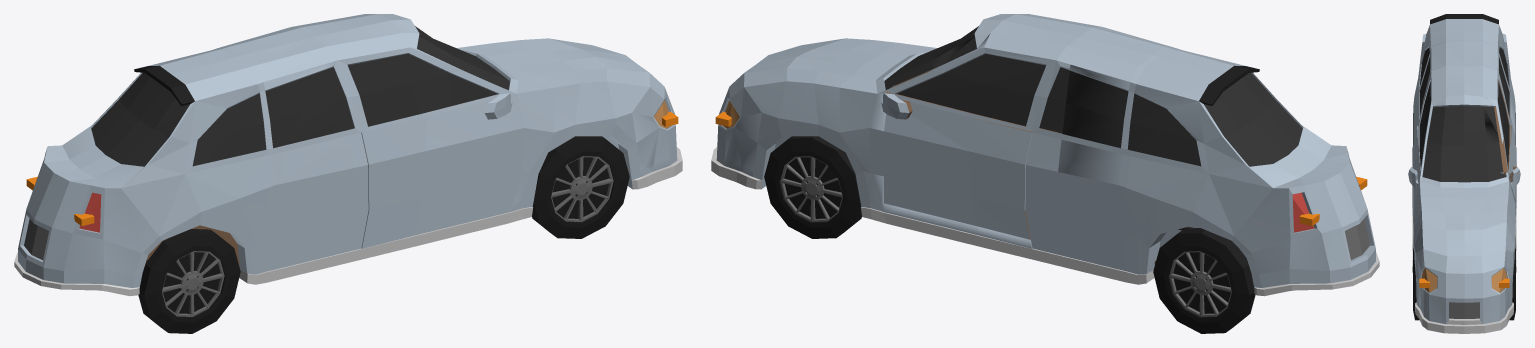
The model's file is car_2.glb.
3 renders of one model, left to right at view 1: azimuth 30°, elevation 25°; view 2: azimuth 150°, elevation 25°; view 3: azimuth 270°, elevation 25°, orthographic. The views are drawn at different scales.
Parts seen in each view (by area): view 1: NormalCar2_Cube.002, Wheels, Wheel.001; view 2: NormalCar2_Cube.002, DriverDoor, Wheels, Wheel; view 3: NormalCar2_Cube.002, DriverDoor, Wheel, Wheel.001.
Part boxes in pixels (x1=…): NormalCar2_Cube.002: x1=14, y1=14, x2=682, y2=296; Wheels: x1=138, y1=229, x2=240, y2=333; Wheel.001: x1=532, y1=136, x2=629, y2=238; NormalCar2_Cube.002: x1=711, y1=14, x2=1379, y2=296; DriverDoor: x1=884, y1=33, x2=1070, y2=245; Wheels: x1=1153, y1=228, x2=1255, y2=333; Wheel: x1=764, y1=136, x2=861, y2=238; NormalCar2_Cube.002: x1=1408, y1=14, x2=1519, y2=333; DriverDoor: x1=1483, y1=67, x2=1520, y2=216; Wheel: x1=1509, y1=246, x2=1515, y2=320; Wheel.001: x1=1413, y1=246, x2=1419, y2=320.
Bounding box in the file's own units: 3.53 × 1.22 × 0.74.
